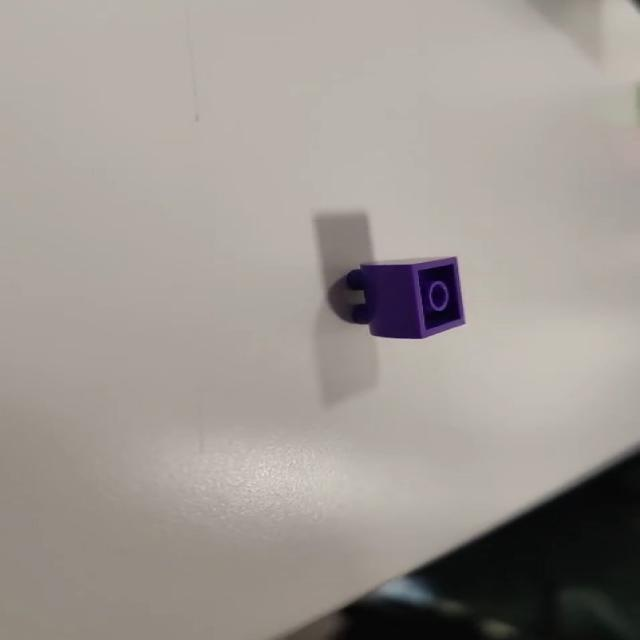H2x2x1: (344, 256, 468, 340)
